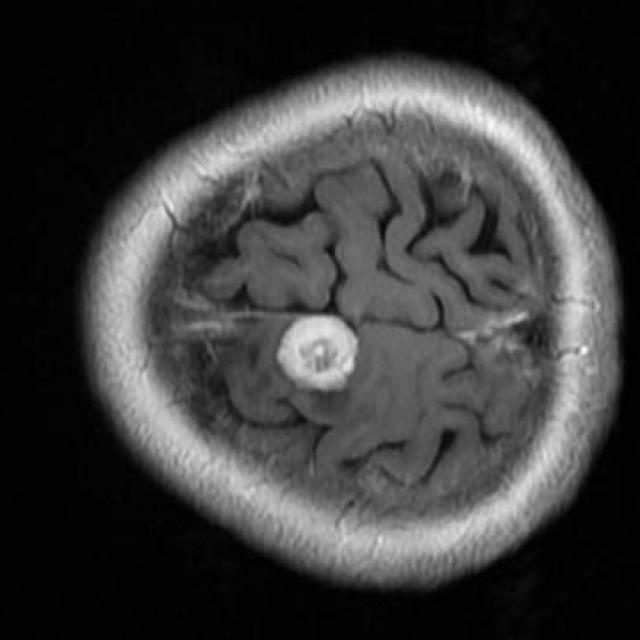meningioma: (278, 316, 358, 390)
